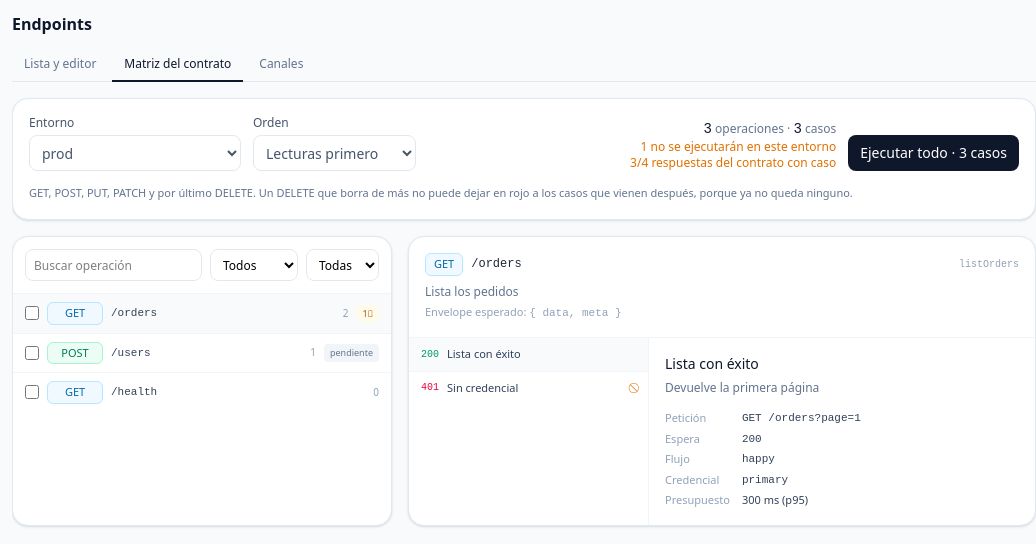
Scenario: MatrixPage › sin entorno no se puede ejecutar; se parte del activo y se pide con su id
The width and height of the screenshot is (1036, 544).
Expected: the text "Lista los pedidos" is shown, [425, 282, 519, 300]
Expected: the button "Ejecutar todo · 3 casos" is enabled, [848, 135, 1019, 171]
Select "Ninguno · todo el contrato" in the dropdown labelled "Entorno": (135, 153) [29, 135, 241, 171]
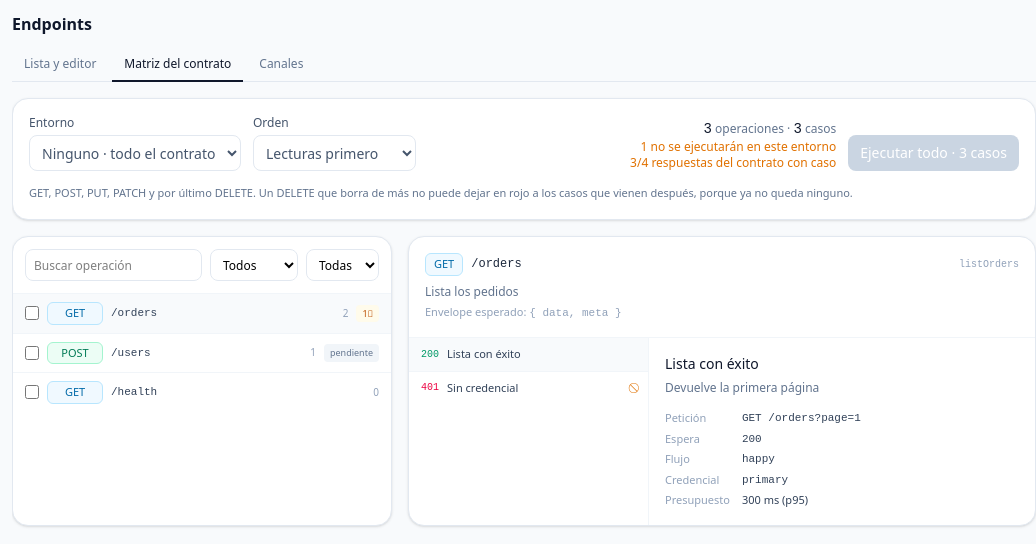
Expected: the button "Ejecutar todo · 3 casos" is disabled, [848, 135, 1019, 171]
